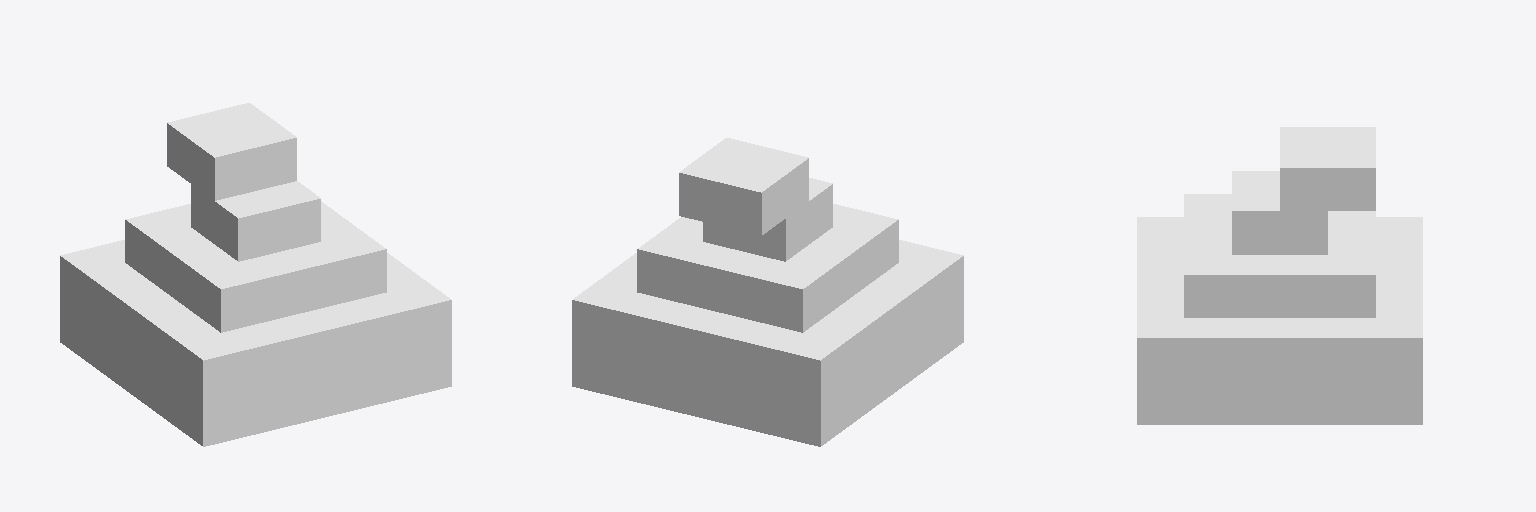
File: xmas.obj
3 renders of one model, left to right at view 1: azimuth 30°, elevation 25°; view 2: azimuth 150°, elevation 25°; view 3: azimuth 270°, elevation 25°, orthographic.
Visible parts, largest first — view 1: object 1; view 2: object 1; view 3: object 1.
Boxes of the visible parts, <box> form: object 1: <box>60,103,451,446</box>; object 1: <box>572,138,963,446</box>; object 1: <box>1137,127,1422,424</box>.
Size of the model in its own units: 0.6 by 0.5 by 0.6.